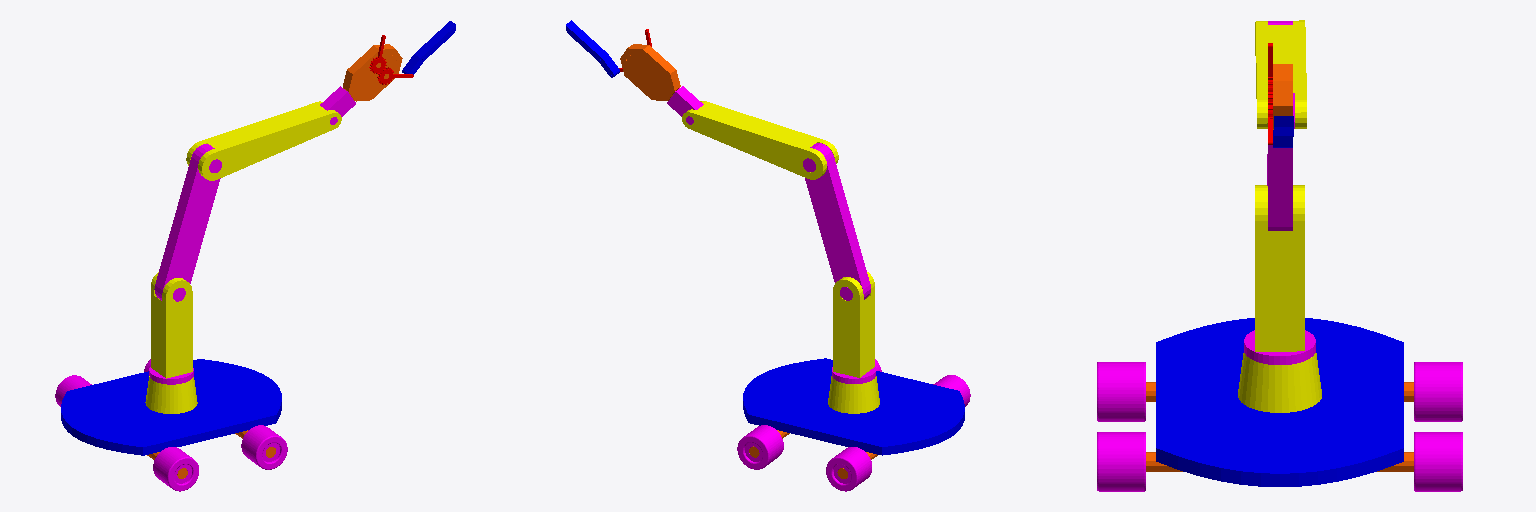
The robot description file, URDF, robot "bot_manipulator":
<?xml version="1.0" ?>
<!-- =================================================================================== -->
<!-- |    This document was autogenerated by xacro from robot.xacro                    | -->
<!-- |    EDITING THIS FILE BY HAND IS NOT RECOMMENDED                                 | -->
<!-- =================================================================================== -->
<robot name="bot_manipulator" xmlns:xacro="https://www.ros.org/wiki/xacro">
  <material name="blue">
    <color rgba="0 0 1 1"/>
  </material>
  <material name="red">
    <color rgba="1 0 0 1"/>
  </material>
  <material name="green">
    <color rgba="0 1 0 1"/>
  </material>
  <material name="purple">
    <color rgba="1 0 1 1"/>
  </material>
  <material name="orange">
    <color rgba="1.0 0.423529411765 0.0392156862745 1"/>
  </material>
  <material name="yellow">
    <color rgba="1.0 1.0 0 1"/>
  </material>
  <material name="brown">
    <color rgba="0.619607843137 0.407843137255 0.164705882353 1"/>
  </material>
  --&gt;


  <link name="base_link_bot">
    <visual>
      <origin rpy="0 0 0" xyz="0 0 0"/>
      <geometry>
        <mesh filename="package://flip1_description/meshes/base_link_bot.STL"/>
      </geometry>
      <material name="blue"/>
    </visual>
    <collision>
      <origin rpy="0 0 0" xyz="0 0 0"/>
      <geometry>
        <mesh filename="package://flip1_description/meshes/base_link_bot.STL"/>
      </geometry>
    </collision>
    <inertial>
      <mass value="9.976679411"/>
      <origin rpy="0 0 0" xyz="-1.84685805937335E-06 0 0.015"/>
      <inertia ixx="0.187958008238022" ixy="3.08331692261721E-07" ixz="3.17637355220364E-19" iyy="0.381816176166743" iyz="1.41513138596527E-18" izz="0.568277677102426"/>
    </inertial>
  </link>
  <link name="link1">
    <visual>
      <origin rpy="0 0 0" xyz="0 0 0"/>
      <geometry>
        <mesh filename="package://flip1_description/meshes/link1.STL"/>
      </geometry>
      <material name="orange"/>
    </visual>
    <collision>
      <origin rpy="0 0 0" xyz="0 0 0"/>
      <geometry>
        <mesh filename="package://flip1_description/meshes/link1.STL"/>
      </geometry>
    </collision>
    <inertial>
      <mass value="1.0019"/>
      <origin rpy="0 0 0" xyz="-1.1102E-16 -0.36 0.0026615"/>
      <inertia ixx="0.03933" ixy="5.6898E-21" ixz="8.3057E-21" iyy="0.00026796" iyz="-2.4157E-19" izz="0.039273"/>
    </inertial>
  </link>
  <link name="link2">
    <visual>
      <origin rpy="0 0 0" xyz="0 0 0"/>
      <geometry>
        <mesh filename="package://flip1_description/meshes/link2.STL"/>
      </geometry>
      <material name="orange"/>
    </visual>
    <collision>
      <origin rpy="0 0 0" xyz="0 0 0"/>
      <geometry>
        <mesh filename="package://flip1_description/meshes/link2.STL"/>
      </geometry>
    </collision>
    <inertial>
      <mass value="1.0019"/>
      <origin rpy="0 0 0" xyz="-1.11022302462516E-16 -0.36 0.00266148520433351"/>
      <inertia ixx="0.0393298433372476" ixy="1.31346575687572E-21" ixz="8.30571622249648E-21" iyy="0.000267958739020857" iyz="-9.65217337723654E-20" izz="0.0392729406311258"/>
    </inertial>
  </link>
  <link name="link3">
    <visual>
      <origin rpy="0 0 0" xyz="0 0 0"/>
      <geometry>
        <mesh filename="package://flip1_description/meshes/link3.STL"/>
      </geometry>
      <material name="purple"/>
    </visual>
    <collision>
      <origin rpy="0 0 0" xyz="0 0 0"/>
      <geometry>
        <mesh filename="package://flip1_description/meshes/link3.STL"/>
      </geometry>
    </collision>
    <inertial>
      <mass value="0.95841"/>
      <origin rpy="0 0 0" xyz="0 -2.7756E-17 0"/>
      <inertia ixx="0.00172" ixy="6.5405E-20" ixz="7.1492E-20" iyy="0.0019649" iyz="-1.0822E-19" izz="0.00172"/>
    </inertial>
  </link>
  <link name="link4">
    <visual>
      <origin rpy="0 0 0" xyz="0 0 0"/>
      <geometry>
        <mesh filename="package://flip1_description/meshes/link4.STL"/>
      </geometry>
      <material name="purple"/>
    </visual>
    <collision>
      <origin rpy="0 0 0" xyz="0 0 0"/>
      <geometry>
        <mesh filename="package://flip1_description/meshes/link4.STL"/>
      </geometry>
    </collision>
    <inertial>
      <mass value="0.95841"/>
      <origin rpy="0 0 0" xyz="0 -1.1102E-16 0"/>
      <inertia ixx="0.00172" ixy="3.8103E-20" ixz="7.1492E-20" iyy="0.0019649" iyz="-8.0921E-20" izz="0.00172"/>
    </inertial>
  </link>
  <link name="link5">
    <visual>
      <origin rpy="0 0 0" xyz="0 0 0"/>
      <geometry>
        <mesh filename="package://flip1_description/meshes/link5.STL"/>
      </geometry>
      <material name="purple"/>
    </visual>
    <collision>
      <origin rpy="0 0 0" xyz="0 0 0"/>
      <geometry>
        <mesh filename="package://flip1_description/meshes/link5.STL"/>
      </geometry>
    </collision>
    <inertial>
      <mass value="0.95841"/>
      <origin rpy="0 0 0" xyz="1.11022302462516E-16 -2.77555756156289E-17 0"/>
      <inertia ixx="0.00172004064353737" ixy="9.19911852675595E-22" ixz="5.42101086242752E-20" iyy="0.00196493476186237" iyz="-9.05839369835372E-20" izz="0.00172004064353737"/>
    </inertial>
  </link>
  <link name="link6">
    <visual>
      <origin rpy="0 0 0" xyz="0 0 0"/>
      <geometry>
        <mesh filename="package://flip1_description/meshes/link6.STL"/>
      </geometry>
      <material name="purple"/>
    </visual>
    <collision>
      <origin rpy="0 0 0" xyz="0 0 0"/>
      <geometry>
        <mesh filename="package://flip1_description/meshes/link6.STL"/>
      </geometry>
    </collision>
    <inertial>
      <mass value="0.95841"/>
      <origin rpy="0 0 0" xyz="1.1102E-16 -1.1102E-16 0"/>
      <inertia ixx="0.00172" ixy="-1.7049E-20" ixz="2.1684E-19" iyy="0.0019649" iyz="-9.2729E-20" izz="0.00172"/>
    </inertial>
  </link>
  <joint name="joint1" type="fixed">
    <origin rpy="0 0 0" xyz="0.16597 0.36 -0.04"/>
    <parent link="base_link_bot"/>
    <child link="link1"/>
  </joint>
  <joint name="joint2" type="fixed">
    <origin rpy="0 0 0" xyz="-0.16597 0.36 -0.04"/>
    <parent link="base_link_bot"/>
    <child link="link2"/>
  </joint>
  <joint name="joint3" type="continuous">
    <origin rpy="0 0 0" xyz="0 -0.041744 0"/>
    <parent link="link1"/>
    <child link="link3"/>
    <axis xyz="0 1 0"/>
  </joint>
  <joint name="joint4" type="continuous">
    <origin rpy="0 0 0" xyz="0 -0.67826 0"/>
    <parent link="link1"/>
    <child link="link4"/>
    <axis xyz="0 1 0"/>
  </joint>
  <joint name="joint5" type="continuous">
    <origin rpy="0 0.082724 0" xyz="0 -0.041744 0"/>
    <parent link="link2"/>
    <child link="link5"/>
    <axis xyz="0 1 0"/>
  </joint>
  <joint name="joint6" type="continuous">
    <origin rpy="0 -0.55404 0" xyz="0 -0.67826 0"/>
    <parent link="link2"/>
    <child link="link6"/>
    <axis xyz="0 1 0"/>
  </joint>
  <link name="base_link_arm">
    <visual>
      <origin rpy="0 0 0" xyz="0 0 0"/>
      <geometry>
        <mesh filename="package://flip1_description/meshes/base_link_arm.STL"/>
      </geometry>
      <material name="yellow"/>
    </visual>
    <collision>
      <origin rpy="0 0 0" xyz="0 0 0"/>
      <geometry>
        <mesh filename="package://flip1_description/meshes/base_link_arm.STL"/>
      </geometry>
    </collision>
    <inertial>
      <mass value="1.7952"/>
      <origin rpy="0 0 0" xyz="1.2496E-07 -9.7714E-07 0.043629"/>
      <inertia ixx="0.0042607" ixy="-2.5643E-08" ixz="-1.5443E-08" iyy="0.0042606" iyz="-1.6265E-08" izz="0.0059208"/>
    </inertial>
  </link>
  <link name="rotation_link">
    <visual>
      <origin rpy="0 0 0" xyz="0 0 0"/>
      <geometry>
        <mesh filename="package://flip1_description/meshes/rotation_link.STL"/>
      </geometry>
      <material name="purple"/>
    </visual>
    <collision>
      <origin rpy="0 0 0" xyz="0 0 0"/>
      <geometry>
        <mesh filename="package://flip1_description/meshes/rotation_link.STL"/>
      </geometry>
    </collision>
    <inertial>
      <mass value="0.38734"/>
      <origin rpy="0 0 0" xyz="0 6.9389E-18 0.020598"/>
      <inertia ixx="0.00049033" ixy="3.134E-20" ixz="4.3688E-20" iyy="0.00049033" iyz="-8.0027E-22" izz="0.00089765"/>
    </inertial>
  </link>
  <link name="vertical_link">
    <visual>
      <origin rpy="0 0 0" xyz="0 0 0"/>
      <geometry>
        <mesh filename="package://flip1_description/meshes/vertical_link.STL"/>
      </geometry>
      <material name="yellow"/>
    </visual>
    <collision>
      <origin rpy="0 0 0" xyz="0 0 0"/>
      <geometry>
        <mesh filename="package://flip1_description/meshes/vertical_link.STL"/>
      </geometry>
    </collision>
    <inertial>
      <mass value="2.8683"/>
      <origin rpy="0 0 0" xyz="0 0 0.14648"/>
      <inertia ixx="0.024919" ixy="2.0329E-19" ixz="1.5006E-18" iyy="0.024772" iyz="2.04E-19" izz="0.0050439"/>
    </inertial>
  </link>
  <link name="middle_arm_link">
    <visual>
      <origin rpy="0 0 0" xyz="0 0 0"/>
      <geometry>
        <mesh filename="package://flip1_description/meshes/middle_arm_link.STL"/>
      </geometry>
      <material name="purple"/>
    </visual>
    <collision>
      <origin rpy="0 0 0" xyz="0 0 0"/>
      <geometry>
        <mesh filename="package://flip1_description/meshes/middle_arm_link.STL"/>
      </geometry>
    </collision>
    <inertial>
      <mass value="2.839"/>
      <origin rpy="0 0 0" xyz="5.5511E-17 -1.3878E-17 0.225"/>
      <inertia ixx="0.072652" ixy="-5.421E-20" ixz="-7.9676E-19" iyy="0.073967" iyz="9.8764E-19" izz="0.002988"/>
    </inertial>
  </link>
  <link name="end_link">
    <visual>
      <origin rpy="0 0 0" xyz="0 0 0"/>
      <geometry>
        <mesh filename="package://flip1_description/meshes/end_link.STL"/>
      </geometry>
      <material name="yellow"/>
    </visual>
    <collision>
      <origin rpy="0 0 0" xyz="0 0 0"/>
      <geometry>
        <mesh filename="package://flip1_description/meshes/end_link.STL"/>
      </geometry>
    </collision>
    <inertial>
      <mass value="3.4568"/>
      <origin rpy="0 0 0" xyz="1.1102E-16 6.9389E-18 0.20744"/>
      <inertia ixx="0.060655" ixy="7.1828E-19" ixz="4.0707E-18" iyy="0.059517" iyz="-2.6631E-18" izz="0.0051642"/>
    </inertial>
  </link>
  <link name="gripper_holder_link">
    <visual>
      <origin rpy="0 0 0" xyz="0 0 0"/>
      <geometry>
        <mesh filename="package://flip1_description/meshes/gripper_holder_link.STL"/>
      </geometry>
      <material name="purple"/>
    </visual>
    <collision>
      <origin rpy="0 0 0" xyz="0 0 0"/>
      <geometry>
        <mesh filename="package://flip1_description/meshes/gripper_holder_link.STL"/>
      </geometry>
    </collision>
    <inertial>
      <mass value="0.37775"/>
      <origin rpy="0 0 0" xyz="0 0 0.031338"/>
      <inertia ixx="0.00058936" ixy="8.8938E-21" ixz="1.7754E-19" iyy="0.00056849" iyz="2.9434E-20" izz="0.00023348"/>
    </inertial>
  </link>
  <joint name="base_rotation_joint" type="continuous">
    <origin rpy="0 0 0.007562" xyz="0 0 0.08"/>
    <parent link="base_link_arm"/>
    <child link="rotation_link"/>
    <axis xyz="0 0 -1"/>
  </joint>
  <joint name="rotation_vertical_joint" type="fixed">
    <origin rpy="0 0 0" xyz="0 0 0.03"/>
    <parent link="rotation_link"/>
    <child link="vertical_link"/>
  </joint>
  <joint name="vertical_middle_arm_joint" type="revolute">
    <origin rpy="0 0.31039 0" xyz="0 0 0.3"/>
    <parent link="vertical_link"/>
    <child link="middle_arm_link"/>
    <axis xyz="0 -1 0"/>
    <limit effort="25" lower="-3.14" upper="3.14" velocity="1"/>
  </joint>
  <joint name="middle_end_joint" type="revolute">
    <origin rpy="0 1.1326 0" xyz="0 0 0.45"/>
    <parent link="middle_arm_link"/>
    <child link="end_link"/>
    <axis xyz="0 1 0"/>
    <limit effort="25" lower="-3.14" upper="3.14" velocity="1"/>
  </joint>
  <joint name="gripper_holder_joint" type="revolute">
    <origin rpy="0 -0.43859 0" xyz="0 0 0.45"/>
    <parent link="end_link"/>
    <child link="gripper_holder_link"/>
    <axis xyz="0 -1 0"/>
    <limit effort="25" lower="-3.14" upper="3.14" velocity="1"/>
  </joint>
  <!-- This URDF was automatically created by SolidWorks to URDF Exporter! Originally created by [author] ([email redacted])
     Commit Version: 1.4.4-24-g24328f6  Build Version: 1.5.7084.36479
     For more information, please see http://wiki.ros.org/sw_urdf_exporter -->
  <link name="base_link_gripper">
    <visual>
      <origin rpy="0 0 0" xyz="0 0 0"/>
      <geometry>
        <mesh filename="package://flip1_description/meshes/base_link_gripper.STL"/>
      </geometry>
      <material name="orange"/>
    </visual>
    <collision>
      <origin rpy="0 0 0" xyz="0 0 0"/>
      <geometry>
        <mesh filename="package://flip1_description/meshes/base_link_gripper.STL"/>
      </geometry>
    </collision>
    <inertial>
      <mass value="0.98099"/>
      <origin rpy="0 0 0" xyz="0 0.14142 0.00016012"/>
      <inertia ixx="0.003388" ixy="-1.1855E-19" ixz="-1.5339E-20" iyy="0.0012787" iyz="-4.4891E-06" izz="0.0044032"/>
    </inertial>
  </link>
  <link name="gear1_link">
    <visual>
      <origin rpy="0 0 0" xyz="0 0 0"/>
      <geometry>
        <mesh filename="package://flip1_description/meshes/gear1_link.STL"/>
      </geometry>
      <material name="red"/>
    </visual>
    <collision>
      <origin rpy="0 0 0" xyz="0 0 0"/>
      <geometry>
        <mesh filename="package://flip1_description/meshes/gear1_link.STL"/>
      </geometry>
    </collision>
    <inertial>
      <mass value="0.02723"/>
      <origin rpy="0 0 0" xyz="-2.77555756156289E-17 0.0175862034544711 5.55111512312578E-17"/>
      <inertia ixx="3.02981038903534E-05" ixy="1.6940658945086E-21" ixz="7.49263431833363E-22" iyy="4.50525088859917E-06" iyz="1.5400867235027E-21" izz="3.43494877805828E-05"/>
    </inertial>
  </link>
  <link name="finger_gear1_link">
    <visual>
      <origin rpy="0 0 0" xyz="0 0 0"/>
      <geometry>
        <mesh filename="package://flip1_description/meshes/finger_gear1_link.STL"/>
      </geometry>
      <material name="blue"/>
    </visual>
    <collision>
      <origin rpy="0 0 0" xyz="0 0 0"/>
      <geometry>
        <mesh filename="package://flip1_description/meshes/finger_gear1_link.STL"/>
      </geometry>
    </collision>
    <inertial>
      <mass value="0.17145"/>
      <origin rpy="0 0 0" xyz="-0.012289 0.101 0"/>
      <inertia ixx="0.0007122" ixy="4.0775E-05" ixz="4.039E-21" iyy="3.2189E-05" iyz="-6.5264E-21" izz="0.00069867"/>
    </inertial>
  </link>
  <link name="gear2_link">
    <visual>
      <origin rpy="0 0 0" xyz="0 0 0"/>
      <geometry>
        <mesh filename="package://flip1_description/meshes/gear2_link.STL"/>
      </geometry>
      <material name="red"/>
    </visual>
    <collision>
      <origin rpy="0 0 0" xyz="0 0 0"/>
      <geometry>
        <mesh filename="package://flip1_description/meshes/gear2_link.STL"/>
      </geometry>
    </collision>
    <inertial>
      <mass value="0.02723"/>
      <origin rpy="0 0 0" xyz="4.33006840808159E-06 0.0177884712258021 5.55111512312578E-17"/>
      <inertia ixx="3.0626740029709E-05" ixy="-1.15573930909179E-09" ixz="-1.4165993432485E-21" iyy="4.4831636497222E-06" iyz="4.26143905320326E-22" izz="3.46553024908243E-05"/>
    </inertial>
  </link>
  <link name="finger_gear2_link">
    <visual>
      <origin rpy="0 0 0" xyz="0 0 0"/>
      <geometry>
        <mesh filename="package://flip1_description/meshes/finger_gear2_link.STL"/>
      </geometry>
      <material name="blue"/>
    </visual>
    <collision>
      <origin rpy="0 0 0" xyz="0 0 0"/>
      <geometry>
        <mesh filename="package://flip1_description/meshes/finger_gear2_link.STL"/>
      </geometry>
    </collision>
    <inertial>
      <mass value="0.17145"/>
      <origin rpy="0 0 0" xyz="-0.012289 0.101 -5.5511E-17"/>
      <inertia ixx="0.0007122" ixy="4.0775E-05" ixz="-3.8232E-21" iyy="3.2189E-05" iyz="5.6109E-21" izz="0.00069867"/>
    </inertial>
  </link>
  <joint name="base_gear1_joint" type="revolute">
    <origin rpy="0 0 0.78573" xyz="-0.0275 0.17 0.025"/>
    <parent link="base_link_gripper"/>
    <child link="gear1_link"/>
    <axis xyz="0 0 1"/>
    <limit effort="25" lower="-3.14" upper="3.14" velocity="1"/>
  </joint>
  <joint name="finger_gear1_joint" type="revolute">
    <origin rpy="-3.1416 0 2.3612" xyz="0 0.099495 -0.025"/>
    <parent link="gear1_link"/>
    <child link="finger_gear1_link"/>
    <axis xyz="0 0 -1"/>
    <limit effort="25" lower="-3.14" upper="3.14" velocity="1"/>
  </joint>
  <joint name="base_gear2_joint" type="revolute">
    <origin rpy="0 0 -0.78573" xyz="0.0275 0.17 0.025"/>
    <parent link="base_link_gripper"/>
    <child link="gear2_link"/>
    <axis xyz="0 0 -1"/>
    <limit effort="25" lower="-3.14" upper="3.14" velocity="1"/>
  </joint>
  <joint name="finger_gear2_joint" type="revolute">
    <origin rpy="0 0 0.78989" xyz="0 0.1 -0.025"/>
    <parent link="gear2_link"/>
    <child link="finger_gear2_link"/>
    <axis xyz="0 0 -1"/>
    <limit effort="25" lower="-3.14" upper="3.14" velocity="1"/>
  </joint>
  <gazebo reference="base_link_bot">
    <material>Gazebo/Blue</material>
  </gazebo>
  <gazebo reference="link1">
    <material>Gazebo/Orange</material>
  </gazebo>
  <gazebo reference="link3">
    <material>Gazebo/Blue</material>
  </gazebo>
  <gazebo reference="link4">
    <material>Gazebo/Blue</material>
  </gazebo>
  <gazebo reference="link2">
    <material>Gazebo/Orange</material>
  </gazebo>
  <gazebo reference="link5">
    <material>Gazebo/Blue</material>
  </gazebo>
  <gazebo reference="link6">
    <material>Gazebo/Blue</material>
  </gazebo>
  <gazebo reference="base_link_arm">
    <material>Gazebo/Yellow</material>
  </gazebo>
  <gazebo reference="rotation_link">
    <material>Gazebo/Green</material>
  </gazebo>
  <gazebo reference="vertical_link">
    <material>Gazebo/Yellow</material>
  </gazebo>
  <gazebo reference="middle_arm_link">
    <material>Gazebo/Green</material>
  </gazebo>
  <gazebo reference="end_link">
    <material>Gazebo/Yellow</material>
  </gazebo>
  <gazebo reference="gripper_holder_link">
    <material>Gazebo/Green</material>
  </gazebo>
  <gazebo reference="base_link_gripper">
    <material>Gazebo/Red</material>
  </gazebo>
  <gazebo reference="gear1_link">
    <material>Gazebo/Grey</material>
  </gazebo>
  <gazebo reference="gear2_link">
    <material>Gazebo/Grey</material>
  </gazebo>
  <gazebo reference="finger_gear1_link">
    <material>Gazebo/SkyBlue</material>
  </gazebo>
  <gazebo reference="finger_gear2_link">
    <material>Gazebo/SkyBlue</material>
  </gazebo>
  <!--<xacro:include filename="$(find trial_bot)/urdf/kinect_sensor.urdf.xacro"/>-->
  <link name="base_link"/>
  <joint name="bot_world_joint" type="fixed">
    <origin rpy="0 0 0" xyz="0 0 0.1"/>
    <parent link="base_link"/>
    <child link="base_link_bot"/>
  </joint>
  <joint name="bot_manipulator_joint" type="fixed">
    <origin rpy=" 0 0 0" xyz="0 0 0.03 "/>
    <parent link="base_link_bot"/>
    <child link="base_link_arm"/>
  </joint>
  <joint name="manipulator_gripper_joint" type="revolute">
    <origin rpy="1.57075 0 0" xyz="0 0 0.063"/>
    <parent link="gripper_holder_link"/>
    <child link="base_link_gripper"/>
    <axis xyz="0 1 0"/>
    <limit effort="25" lower="-3.14" upper="3.14" velocity="1"/>
  </joint>
  <!--<joint name="base_link_kinect_joint" type="fixed">
    <origin xyz="0 0 1.3" rpy="0 0 0"/>
    <parent link="base_link"/>
    <child link="kinect_sensor_link"/>
  </joint>-->
</robot>

--- What the picture shows (computed from the rendered views, not written in the file) ---
3 views of the same robot in one strip: view 1: azimuth 30°, elevation 25°; view 2: azimuth 150°, elevation 25°; view 3: azimuth 270°, elevation 25° (orthographic).
Model bot_manipulator with 19 links and 18 joints (8 revolute, 5 continuous, 5 fixed), rooted at base_link, posed every joint at zero.
Links seen in each view (by area): view 1: base_link_bot, end_link, middle_arm_link, vertical_link, base_link_gripper, base_link_arm, link4, link6, finger_gear2_link, gripper_holder_link; view 2: base_link_bot, end_link, middle_arm_link, vertical_link, base_link_gripper, base_link_arm, link3, link5, finger_gear2_link, gripper_holder_link; view 3: base_link_bot, vertical_link, base_link_arm, end_link, link5, link6, link3, link4, middle_arm_link, rotation_link, base_link_gripper, link1 (+1 smaller).
Boxes of the visible links, x1=… form: base_link_bot: x1=61, y1=359, x2=281, y2=455; end_link: x1=186, y1=101, x2=341, y2=180; middle_arm_link: x1=154, y1=144, x2=221, y2=301; vertical_link: x1=151, y1=272, x2=192, y2=378; base_link_gripper: x1=343, y1=44, x2=402, y2=101; base_link_arm: x1=145, y1=376, x2=197, y2=413; link4: x1=241, y1=425, x2=287, y2=469; link6: x1=153, y1=447, x2=198, y2=491; finger_gear2_link: x1=402, y1=21, x2=455, y2=74; gripper_holder_link: x1=320, y1=86, x2=355, y2=124; base_link_bot: x1=743, y1=358, x2=964, y2=455; end_link: x1=682, y1=101, x2=838, y2=179; middle_arm_link: x1=803, y1=143, x2=870, y2=300; vertical_link: x1=833, y1=272, x2=874, y2=377; base_link_gripper: x1=620, y1=44, x2=680, y2=100; base_link_arm: x1=828, y1=376, x2=879, y2=413; link3: x1=737, y1=425, x2=783, y2=469; link5: x1=826, y1=447, x2=871, y2=491; finger_gear2_link: x1=566, y1=20, x2=619, y2=77; gripper_holder_link: x1=667, y1=86, x2=703, y2=124; base_link_bot: x1=1156, y1=318, x2=1403, y2=486; vertical_link: x1=1255, y1=185, x2=1304, y2=351; base_link_arm: x1=1238, y1=353, x2=1321, y2=412; end_link: x1=1255, y1=20, x2=1306, y2=128; link5: x1=1414, y1=362, x2=1462, y2=421; link6: x1=1097, y1=362, x2=1145, y2=421; link3: x1=1414, y1=432, x2=1462, y2=491; link4: x1=1097, y1=432, x2=1145, y2=491; middle_arm_link: x1=1267, y1=21, x2=1292, y2=230; rotation_link: x1=1244, y1=330, x2=1315, y2=364; base_link_gripper: x1=1273, y1=64, x2=1292, y2=129; link1: x1=1146, y1=452, x2=1413, y2=471.
Bounding box of the posed robot: 1.44 × 0.7365 × 1.28 m (x, y, z).
Meshes: 18 distinct files referenced, 17 mesh visuals loaded (17 binary STL); not drawn: 1 (reference not matched to a file when rendering).